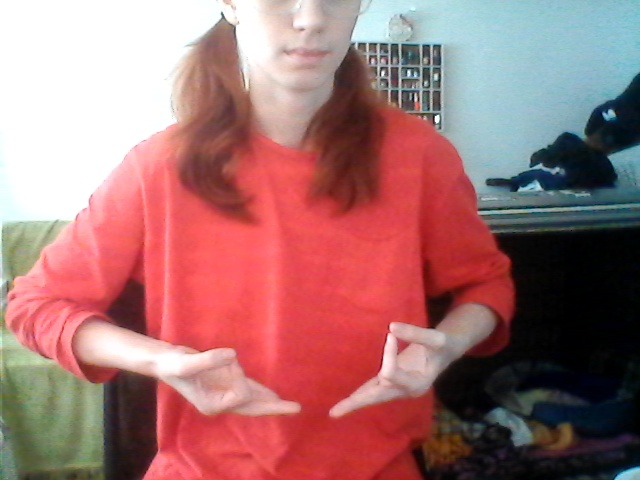preco: (157, 309, 455, 425)
